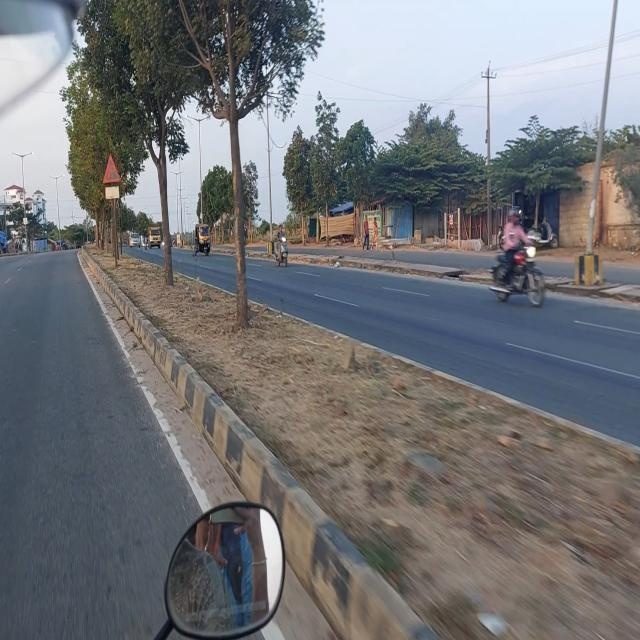bien_nguy_hiem: (103, 150, 121, 186)
